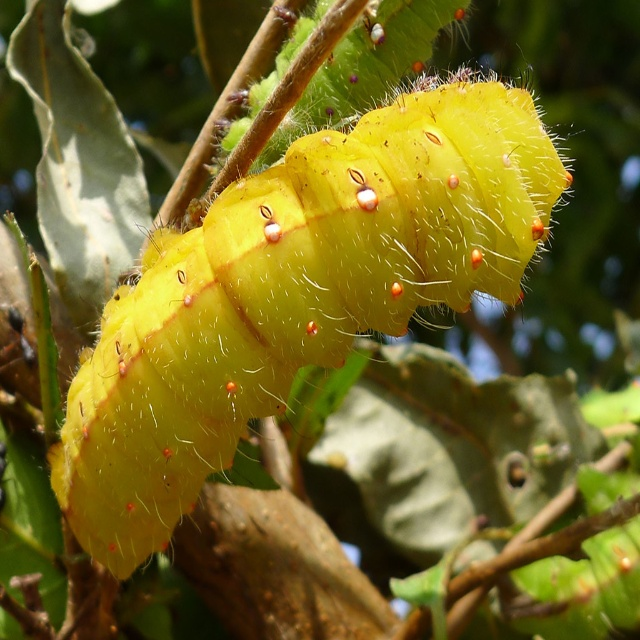Caterpillar: (42, 46, 575, 581)
